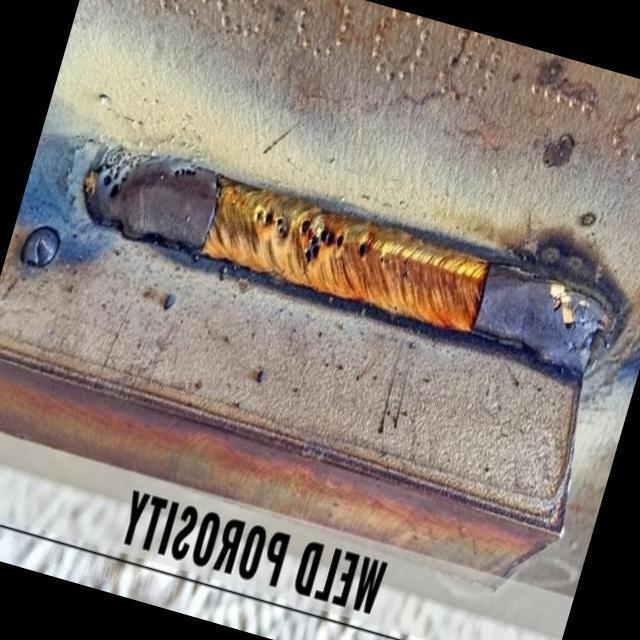defect: (100, 144, 155, 201), (297, 214, 346, 267), (251, 207, 288, 240), (172, 165, 197, 178), (355, 240, 368, 263), (400, 255, 409, 278), (377, 251, 384, 266)
